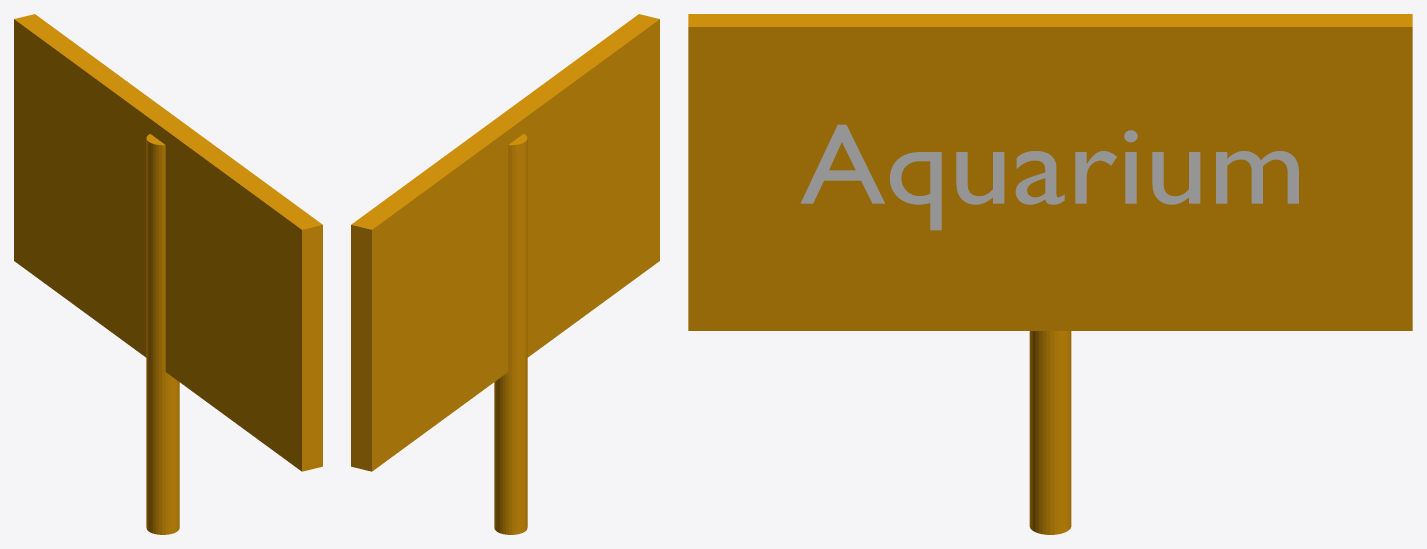
File: Kyltti16.fbx
3 views of the same model, side by side, from view 1: azimuth 30°, elevation 25°; view 2: azimuth 150°, elevation 25°; view 3: azimuth 270°, elevation 25° (orthographic). The views are drawn at different scales.
Visible parts, largest first — view 1: Kyltti16, Cylinder.015; view 2: Kyltti16, Cylinder.015; view 3: Kyltti16, Text.017, Cylinder.015.
Part boxes in pixels (x1,y1,x2,y2): Kyltti16: [14, 14, 322, 471]; Cylinder.015: [146, 134, 179, 534]; Kyltti16: [351, 14, 659, 471]; Cylinder.015: [494, 134, 527, 534]; Kyltti16: [688, 14, 1412, 330]; Text.017: [800, 124, 1298, 230]; Cylinder.015: [1029, 331, 1071, 534].
Size of the model in its own units: 36.68 by 442 by 570.
